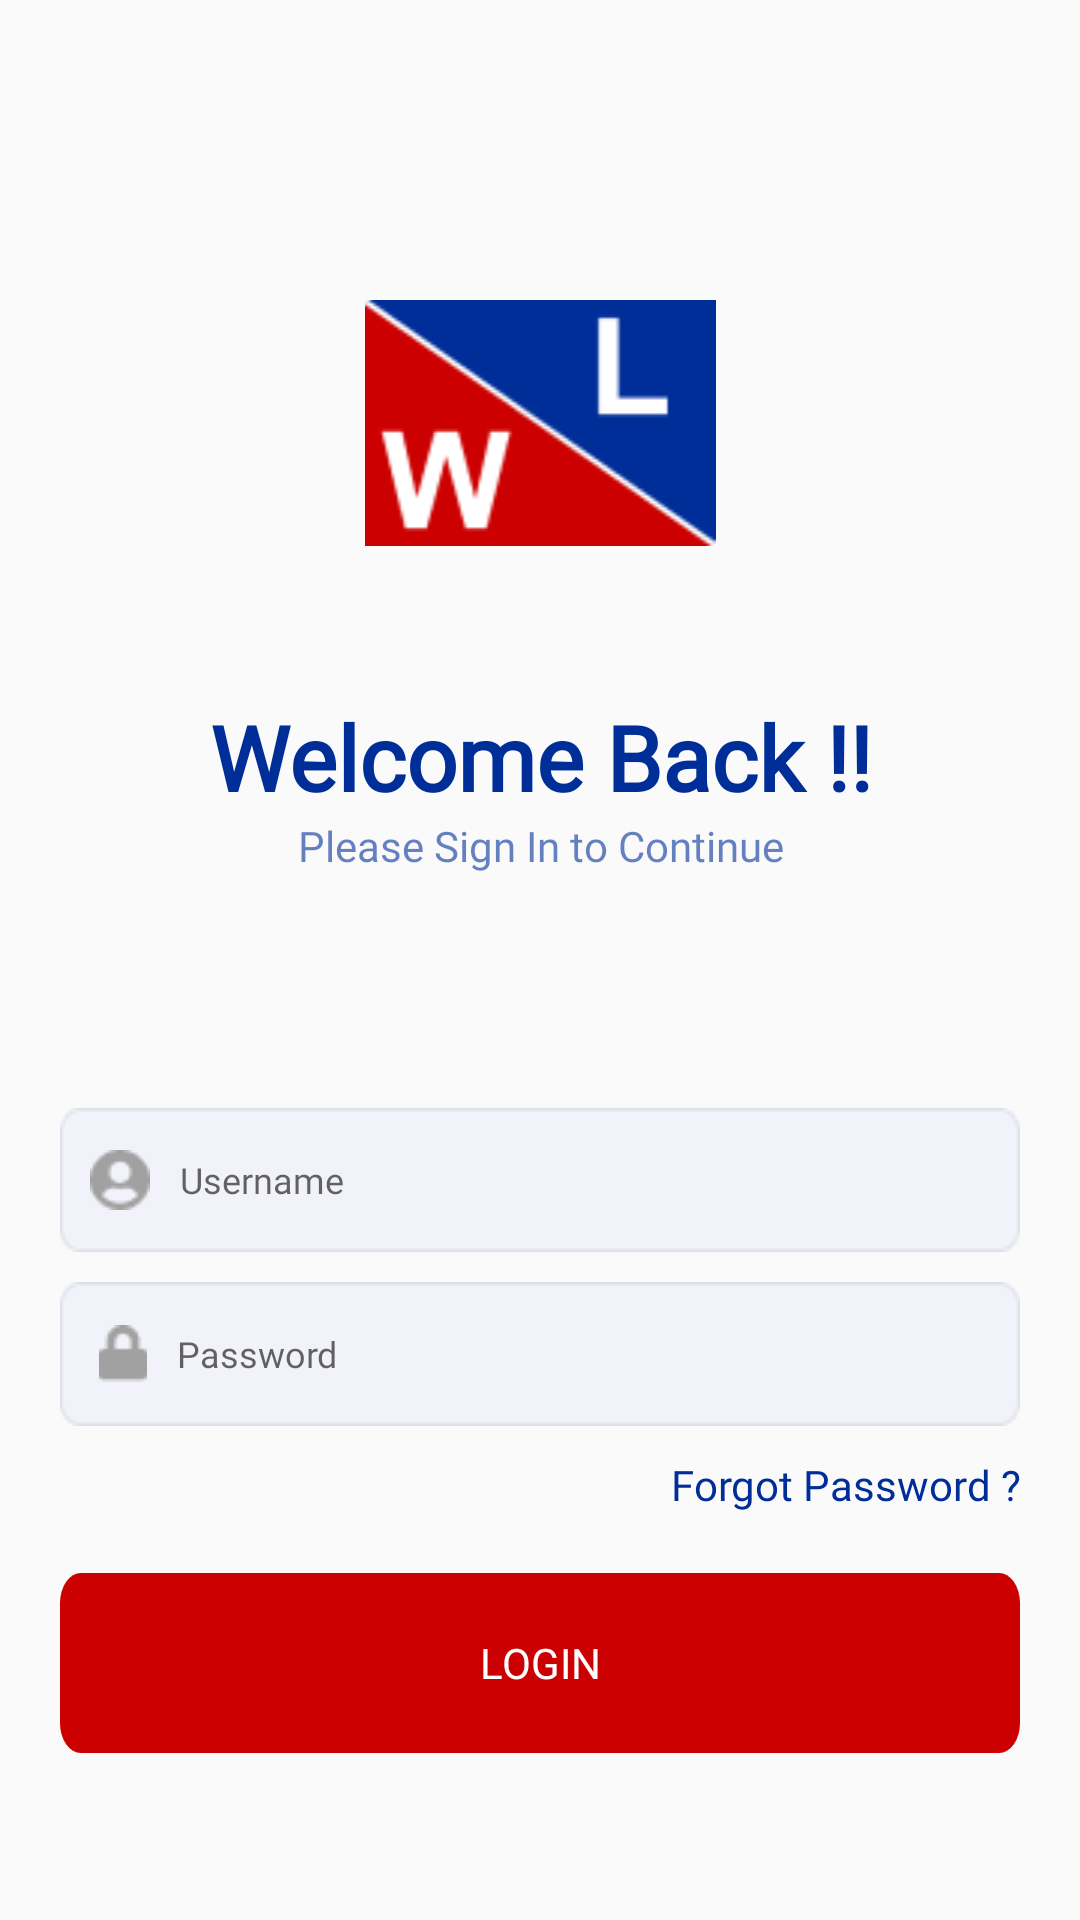

Icons on this 1080*1920 Android screen, each with the point to tap as (x=x, y=y):
username: (x=120, y=1180)
